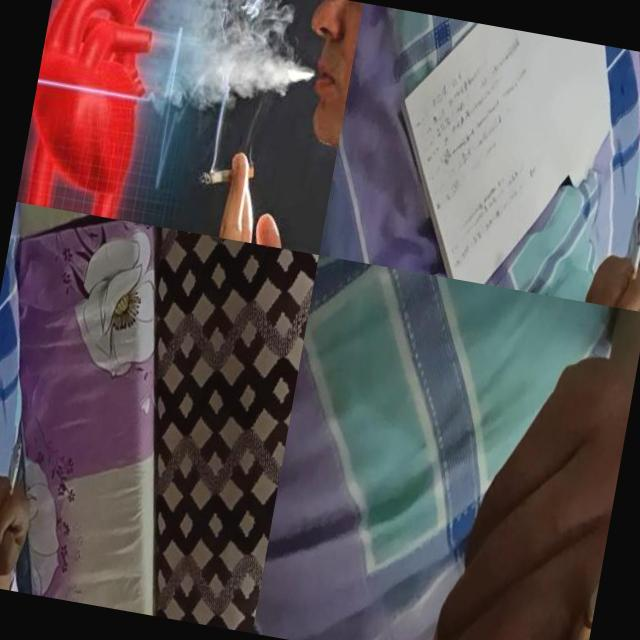smoke: (548, 471, 617, 640), (198, 156, 256, 193), (3, 440, 24, 510), (626, 214, 640, 297)
